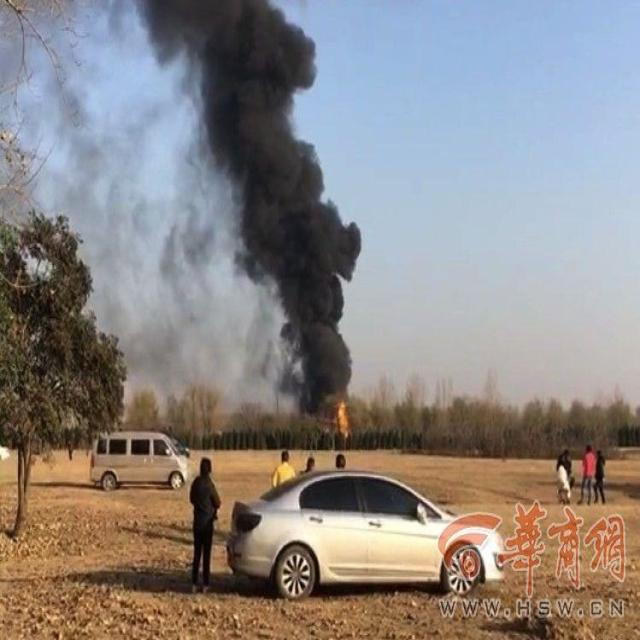Fire: (336, 401, 349, 442)
Smoke: (1, 1, 362, 433)
